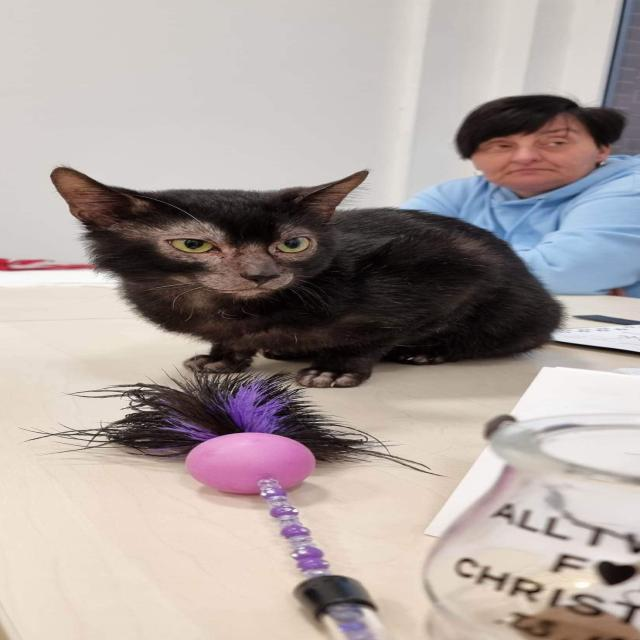Lykoi: (44, 162, 574, 390)
